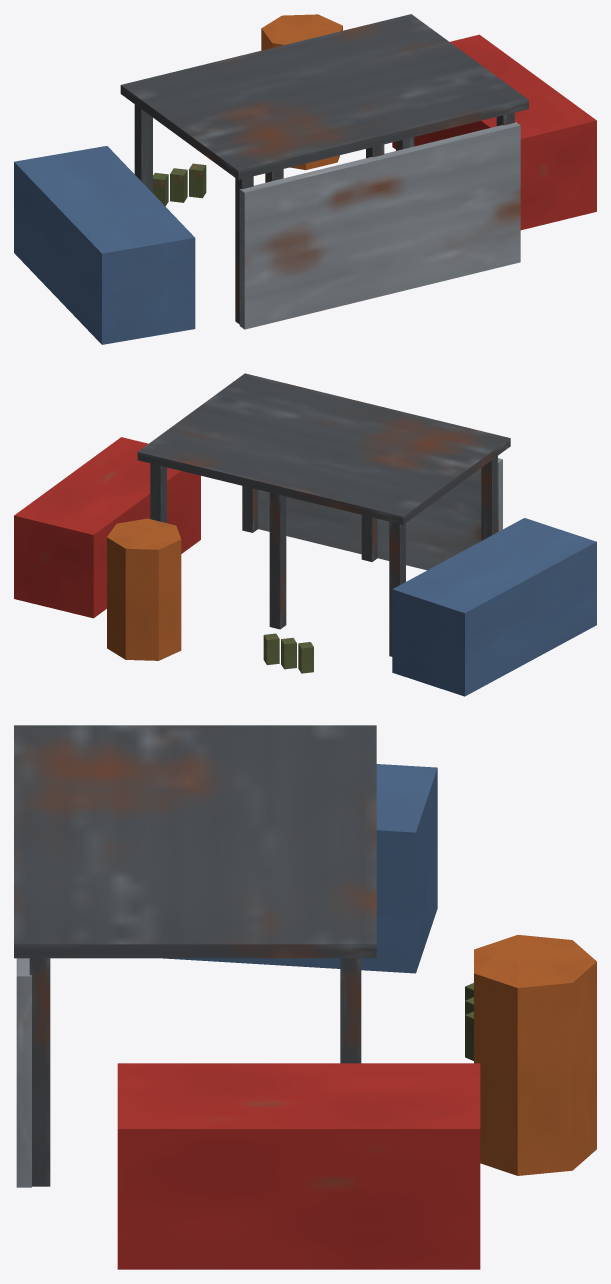
File: SM_POI_IndustrialSite_LOD1.fbx
3 renders of one model, top to bottom at view 1: azimuth 30°, elevation 25°; view 2: azimuth 150°, elevation 25°; view 3: azimuth 270°, elevation 25°, orthographic. The views are drawn at different scales.
Visible parts, largest first — view 1: SM_POI_IndustrialSite_LOD1; view 2: SM_POI_IndustrialSite_LOD1; view 3: SM_POI_IndustrialSite_LOD1.
Part boxes in pixels (left/top/right/bottom): SM_POI_IndustrialSite_LOD1: left=14, top=14, right=596, bottom=344; SM_POI_IndustrialSite_LOD1: left=14, top=373, right=596, bottom=696; SM_POI_IndustrialSite_LOD1: left=14, top=725, right=596, bottom=1269.
Bounding box in the file's own units: 34.95 × 10.6 × 22.5.
1 material, 1 textured.
